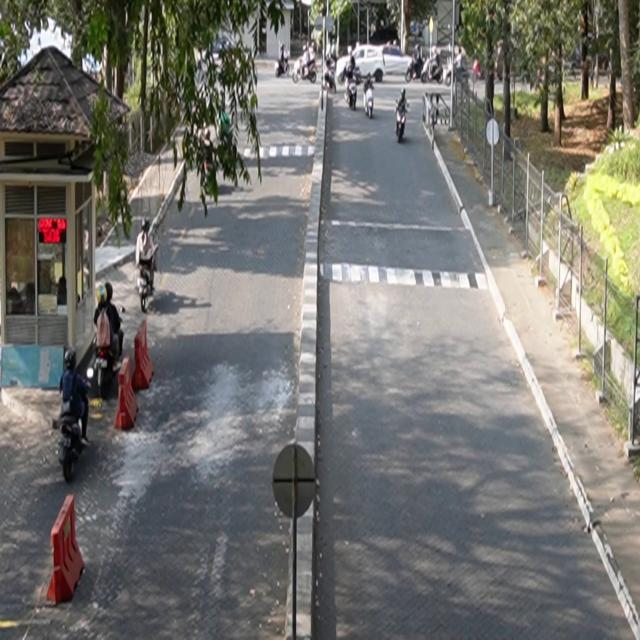car: (337, 44, 414, 84)
